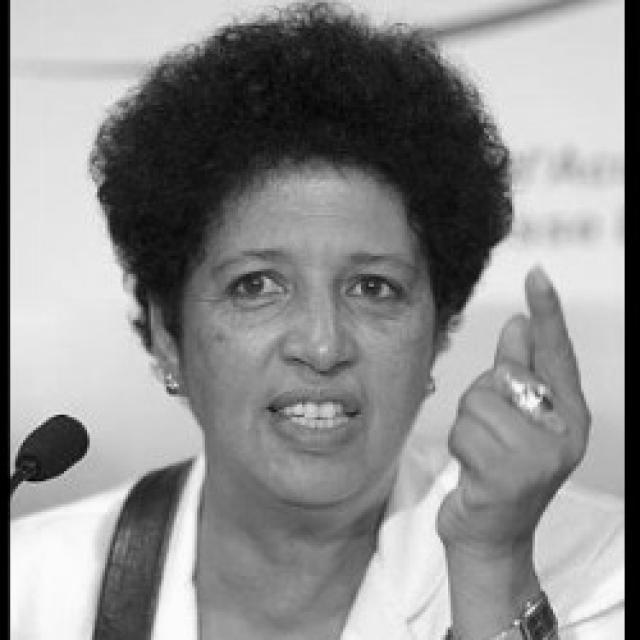real: (128, 64, 460, 517), (207, 255, 413, 321)
